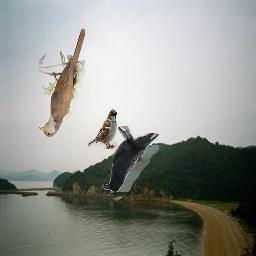Crow: (103, 126, 160, 192)
Cuckoo: (39, 29, 85, 138)
Sparrow: (89, 109, 118, 149)
